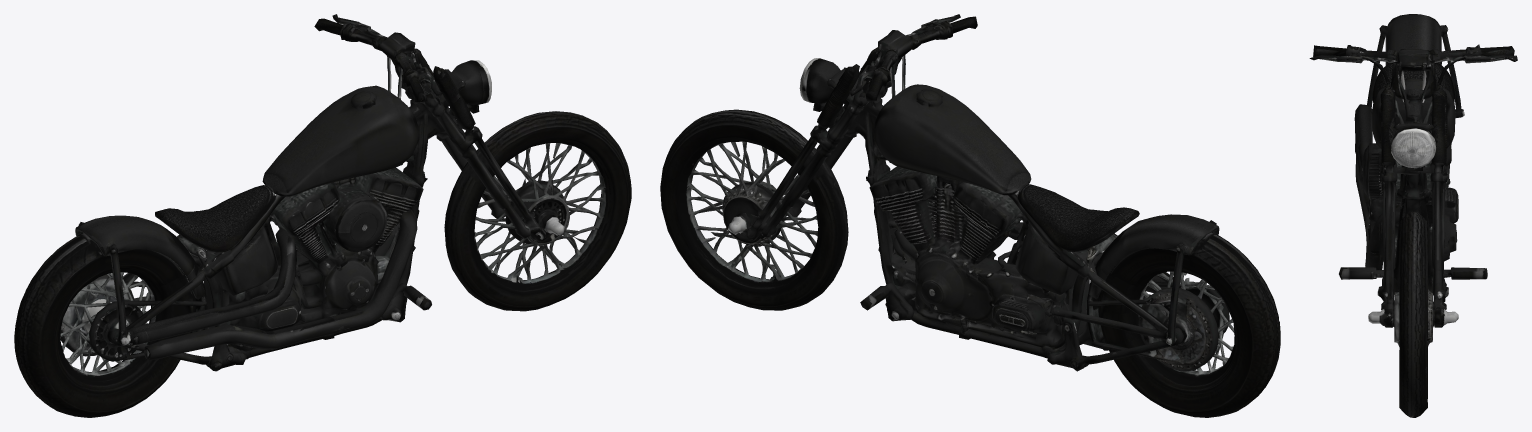
File: black_motorcycle_3d_model.fbx
3 renders of one model, left to right at view 1: azimuth 30°, elevation 25°; view 2: azimuth 150°, elevation 25°; view 3: azimuth 270°, elevation 25°, orthographic. The views are drawn at different scales.
Visible parts, largest first — view 1: tripo_part_1, tripo_part_0, tripo_part_2, tripo_part_3, tripo_part_7, tripo_part_4, tripo_part_8, tripo_part_6, tripo_part_12, tripo_part_10, tripo_part_9, tripo_part_5; view 2: tripo_part_0, tripo_part_1, tripo_part_2, tripo_part_3, tripo_part_7, tripo_part_6, tripo_part_5, tripo_part_4, tripo_part_10, tripo_part_9; view 3: tripo_part_4, tripo_part_1, tripo_part_3, tripo_part_5, tripo_part_2, tripo_part_6, tripo_part_9, tripo_part_7, tripo_part_8, tripo_part_12.
Part boxes in pixels (x1=…): tripo_part_1: x1=444, y1=111, x2=631, y2=311; tripo_part_0: x1=14, y1=233, x2=205, y2=417; tripo_part_2: x1=204, y1=167, x2=423, y2=350; tripo_part_3: x1=106, y1=101, x2=458, y2=371; tripo_part_7: x1=262, y1=56, x2=419, y2=196; tripo_part_4: x1=314, y1=14, x2=564, y2=242; tripo_part_8: x1=144, y1=210, x2=417, y2=360; tripo_part_6: x1=75, y1=215, x2=207, y2=355; tripo_part_12: x1=127, y1=228, x2=296, y2=345; tripo_part_10: x1=214, y1=220, x2=278, y2=295; tripo_part_9: x1=426, y1=60, x2=491, y2=115; tripo_part_5: x1=401, y1=48, x2=505, y2=218; tripo_part_0: x1=1088, y1=232, x2=1280, y2=417; tripo_part_1: x1=660, y1=109, x2=848, y2=310; tripo_part_2: x1=869, y1=166, x2=1089, y2=348; tripo_part_3: x1=834, y1=100, x2=1185, y2=371; tripo_part_7: x1=873, y1=55, x2=1031, y2=195; tripo_part_6: x1=1086, y1=214, x2=1219, y2=353; tripo_part_5: x1=728, y1=64, x2=868, y2=242; tripo_part_4: x1=785, y1=14, x2=977, y2=217; tripo_part_10: x1=1015, y1=223, x2=1079, y2=294; tripo_part_9: x1=799, y1=58, x2=866, y2=114; tripo_part_4: x1=1309, y1=44, x2=1517, y2=327; tripo_part_1: x1=1393, y1=211, x2=1433, y2=417; tripo_part_3: x1=1339, y1=63, x2=1487, y2=302; tripo_part_5: x1=1421, y1=85, x2=1458, y2=327; tripo_part_2: x1=1362, y1=143, x2=1458, y2=261; tripo_part_6: x1=1367, y1=14, x2=1464, y2=118; tripo_part_9: x1=1391, y1=122, x2=1436, y2=170; tripo_part_7: x1=1372, y1=70, x2=1455, y2=149; tripo_part_8: x1=1355, y1=155, x2=1400, y2=269; tripo_part_12: x1=1354, y1=104, x2=1372, y2=186.
Size of the model in its own units: 1 by 0.4724 by 0.3047.
